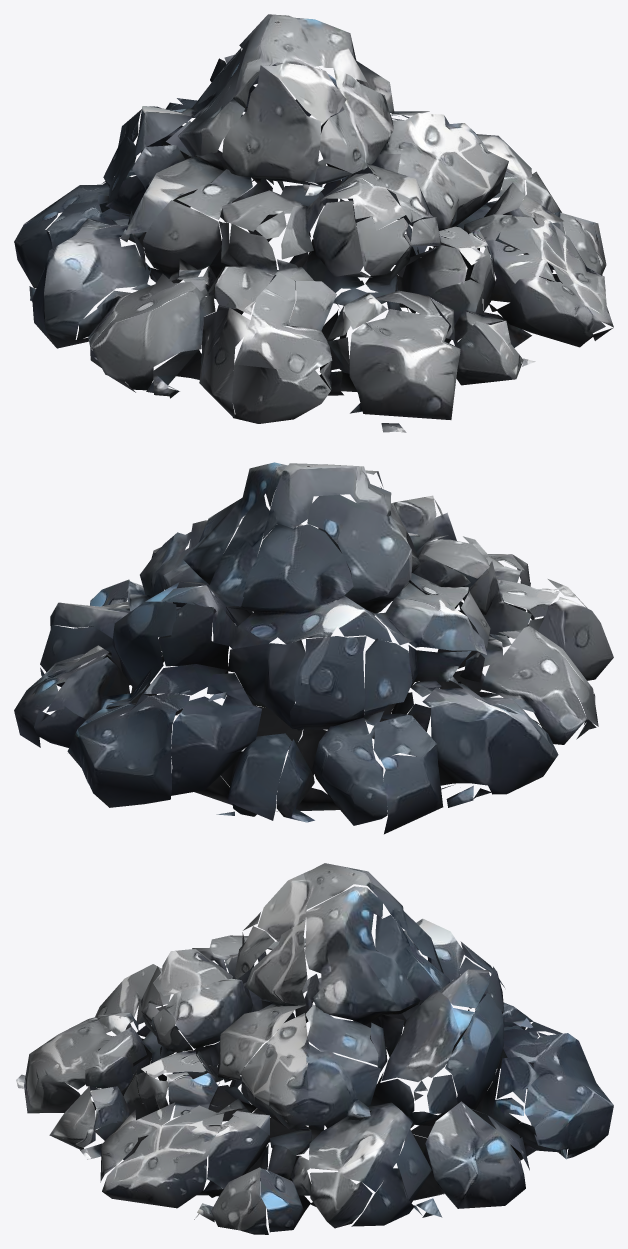
File: silver.glb
3 renders of one model, top to bottom at view 1: azimuth 30°, elevation 25°; view 2: azimuth 150°, elevation 25°; view 3: azimuth 270°, elevation 25°, orthographic. The views are drawn at different scales.
Parts seen in each view (by area): view 1: tripo_node_44333968-1a9d-4d32-b360-7b66c7dd946a; view 2: tripo_node_44333968-1a9d-4d32-b360-7b66c7dd946a; view 3: tripo_node_44333968-1a9d-4d32-b360-7b66c7dd946a.
Boxes of the visible parts, x1,y1,x2,y2 form: tripo_node_44333968-1a9d-4d32-b360-7b66c7dd946a: (14, 14, 613, 432); tripo_node_44333968-1a9d-4d32-b360-7b66c7dd946a: (14, 462, 613, 834); tripo_node_44333968-1a9d-4d32-b360-7b66c7dd946a: (16, 863, 613, 1234).
Size of the model in its own units: 0.901 by 0.4554 by 1.
Materials: 1 (1 with a texture image).
